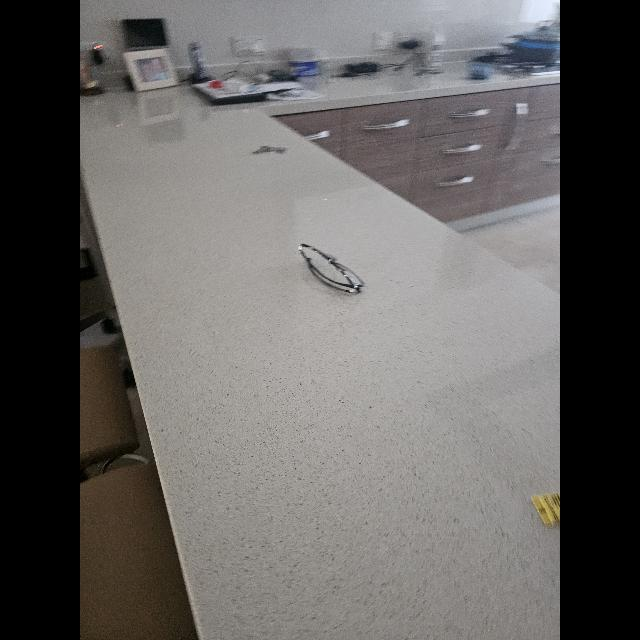glasses: (298, 244, 364, 292)
